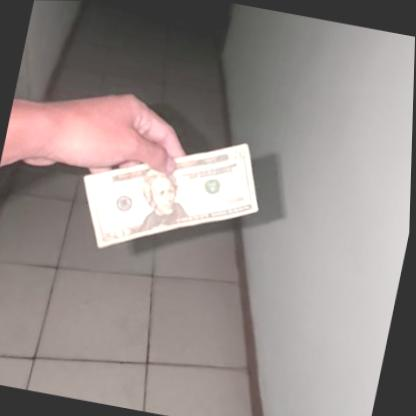twenty-front: (68, 108, 274, 276)
